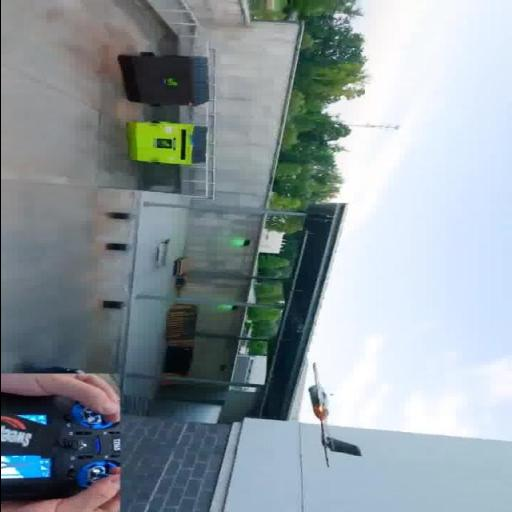uav: (290, 362, 366, 474)
